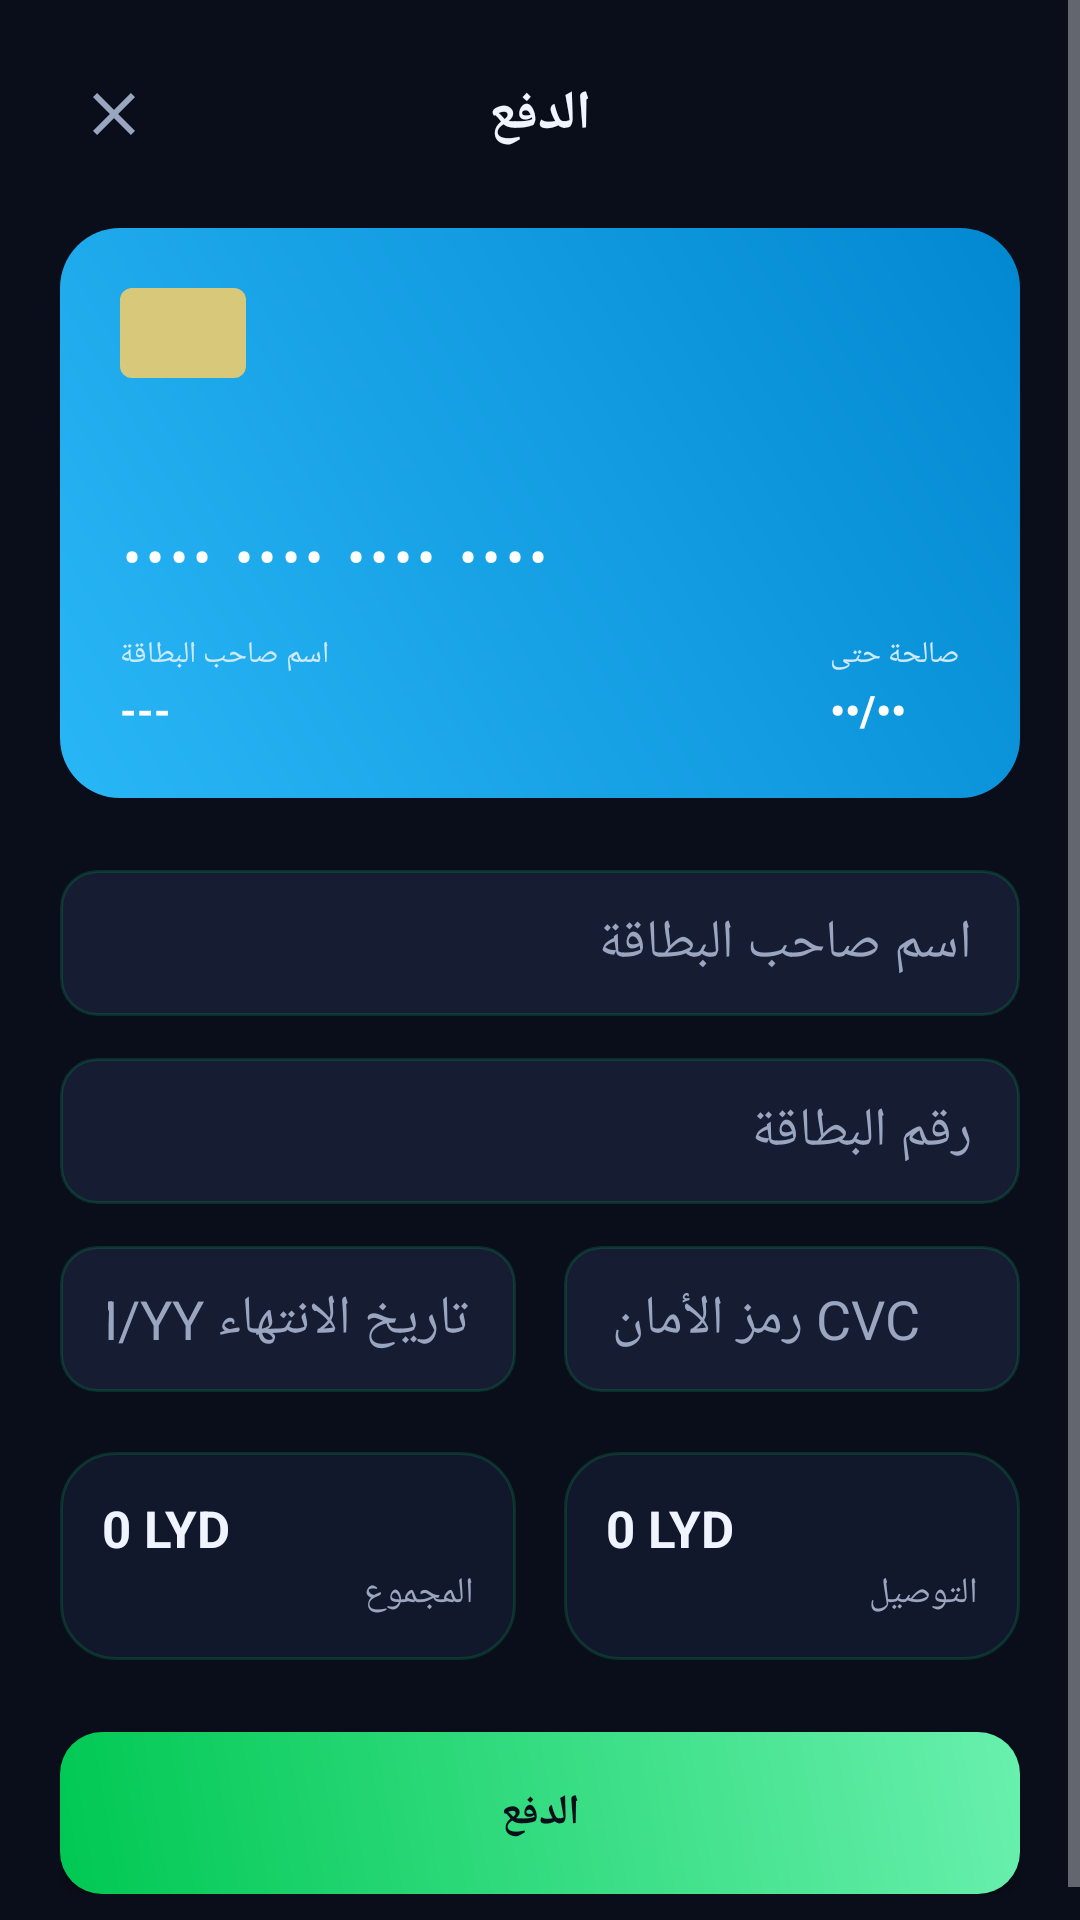

Screen size 1080x1920. Icon name, then its center in pixels as (x=x, y=y):
إغلاق: (x=114, y=114)
